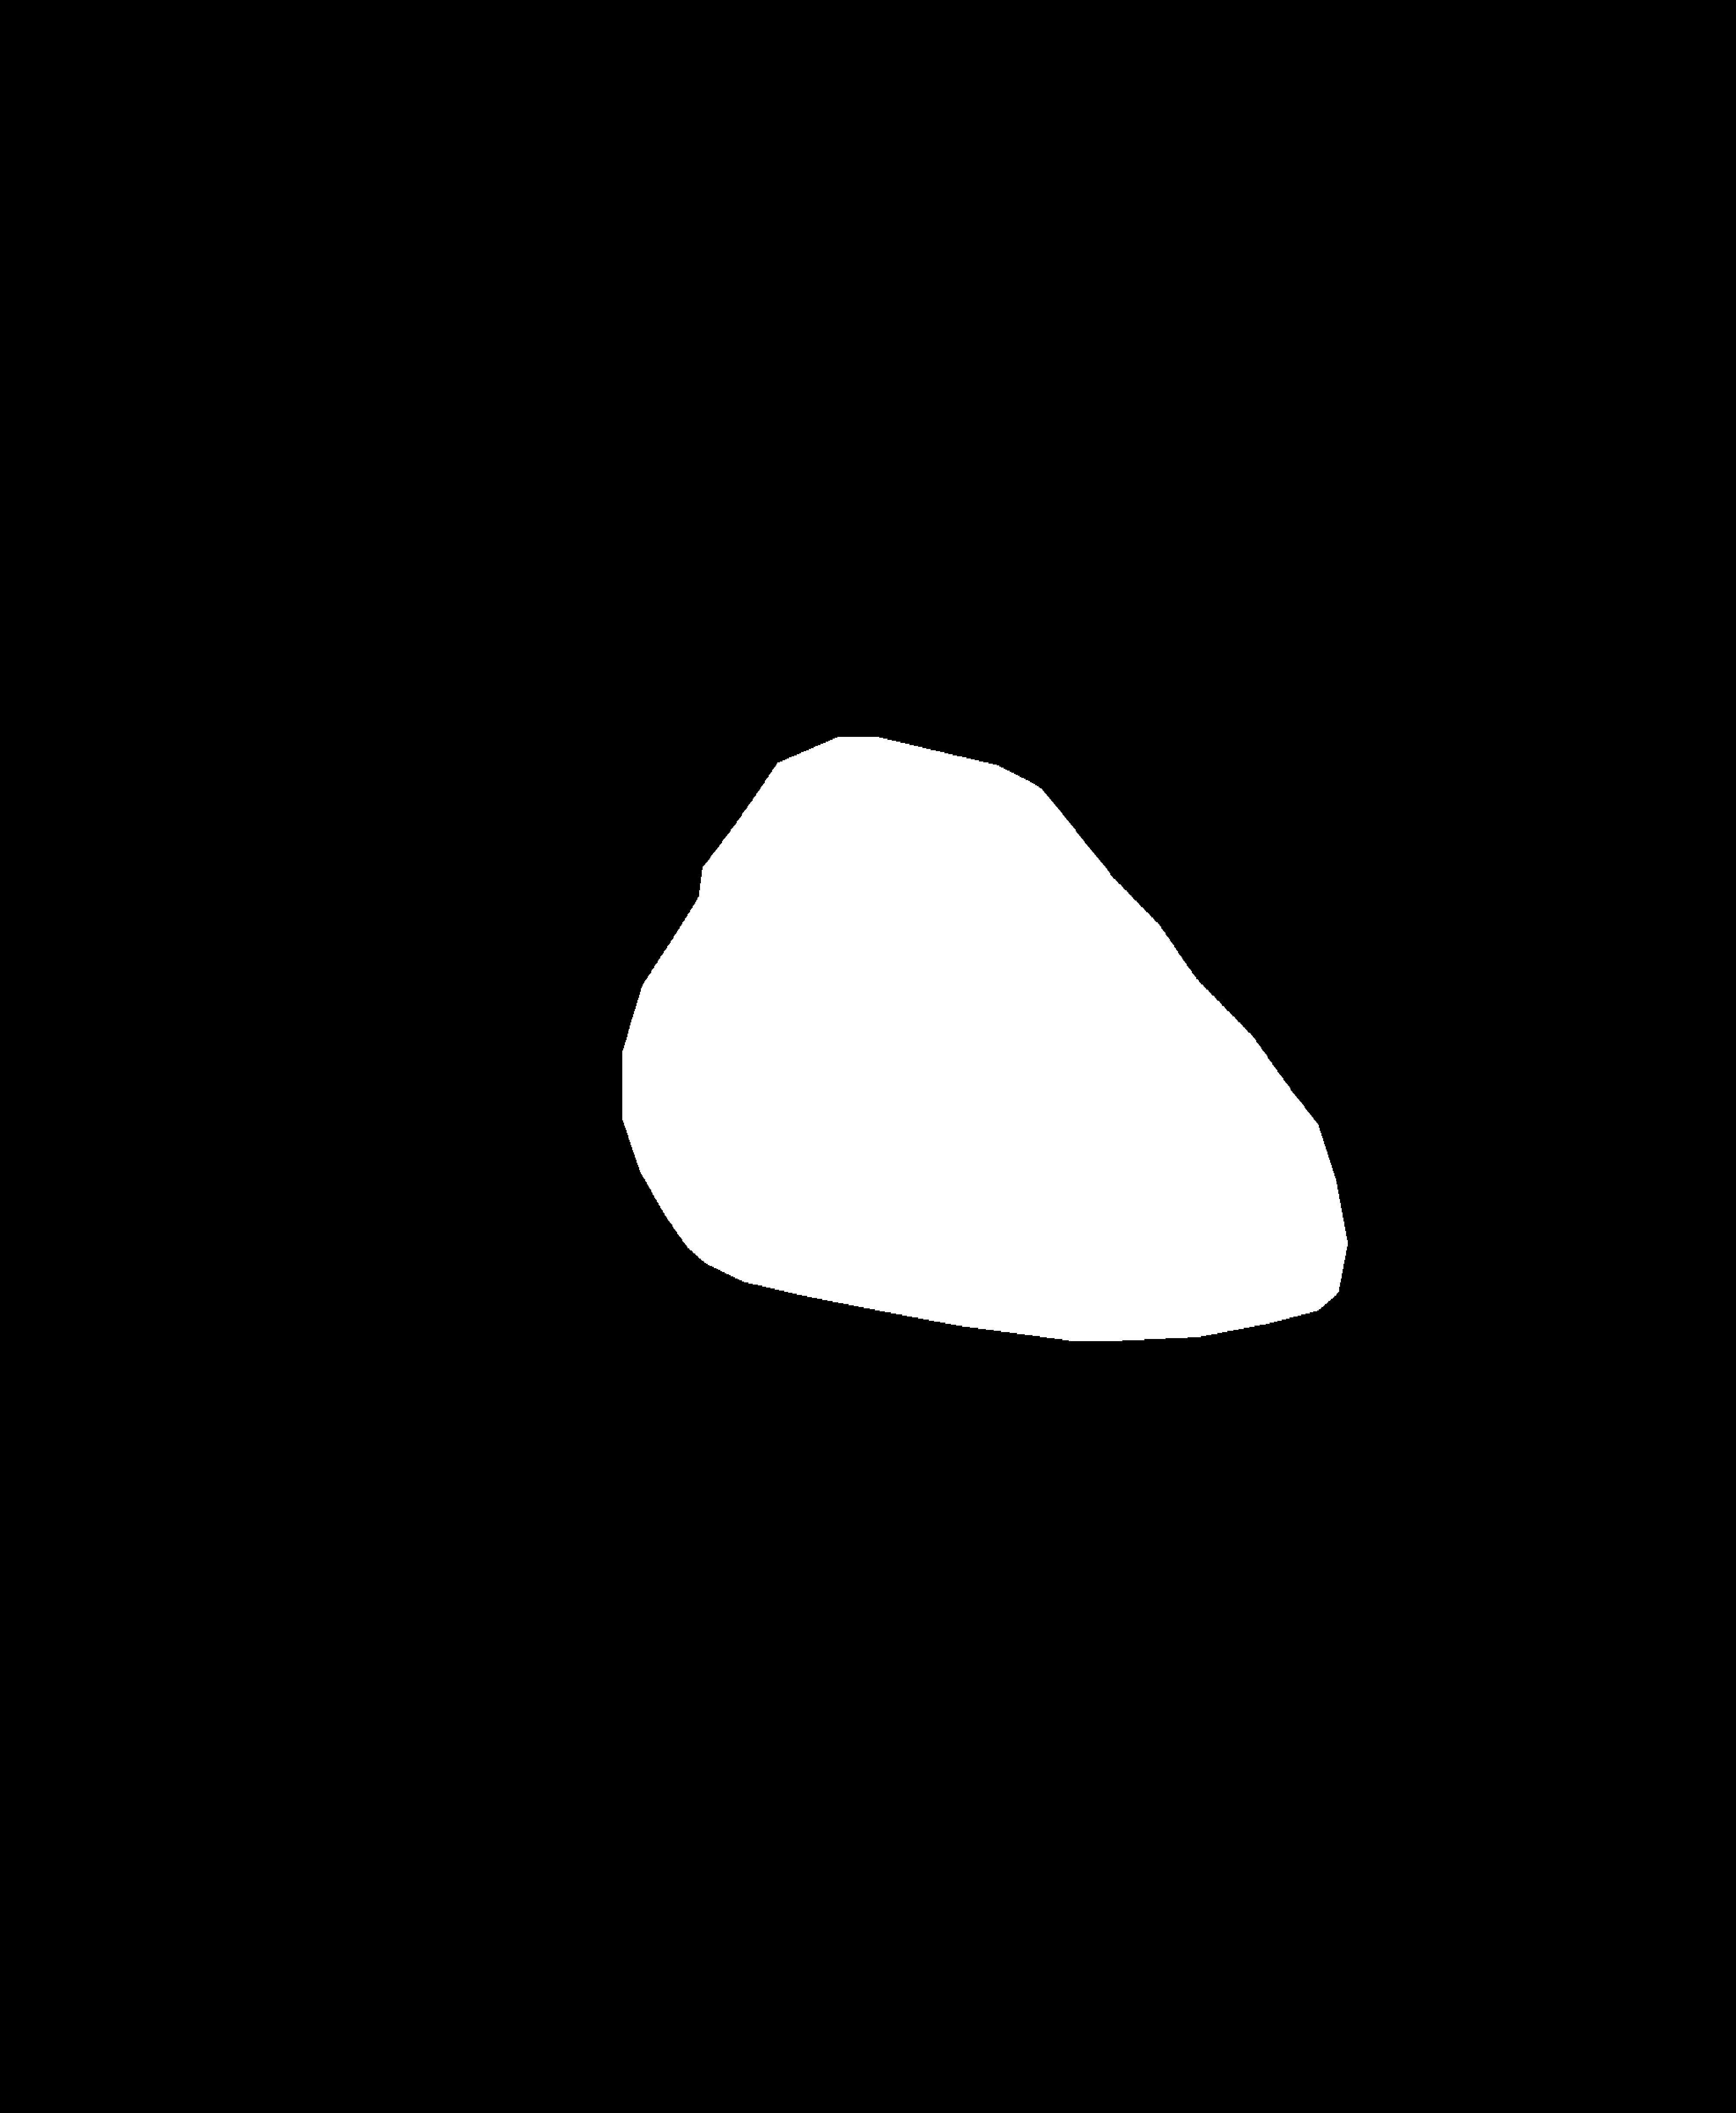heart: (621, 883, 1345, 1399)
left_lung: (179, 198, 800, 1448)
right_lung: (922, 212, 1545, 1495)
